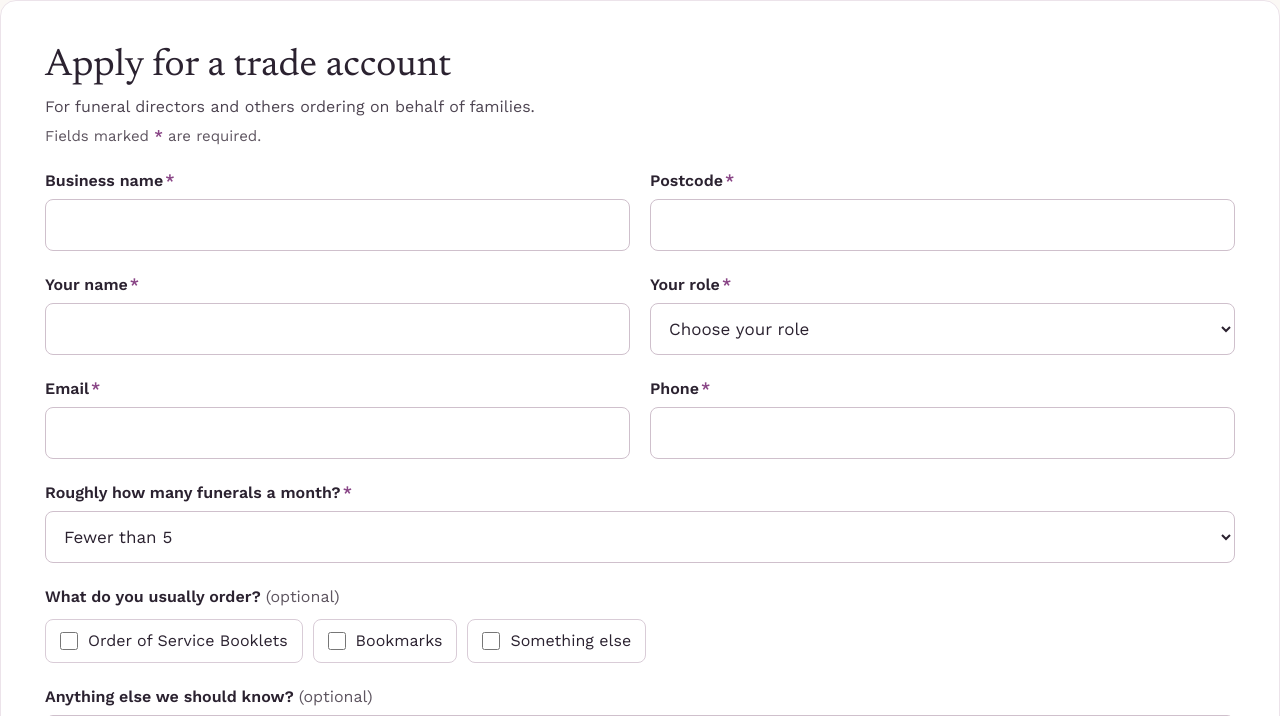
Scenario: TradeApplicationForm › offers the roles as a list, with a box for their own words under Other
Check: the field labelled "Tell us your role" is not shown
Select "Other" in the dropdown labelled "Your role": (942, 329) [650,303,1235,355]
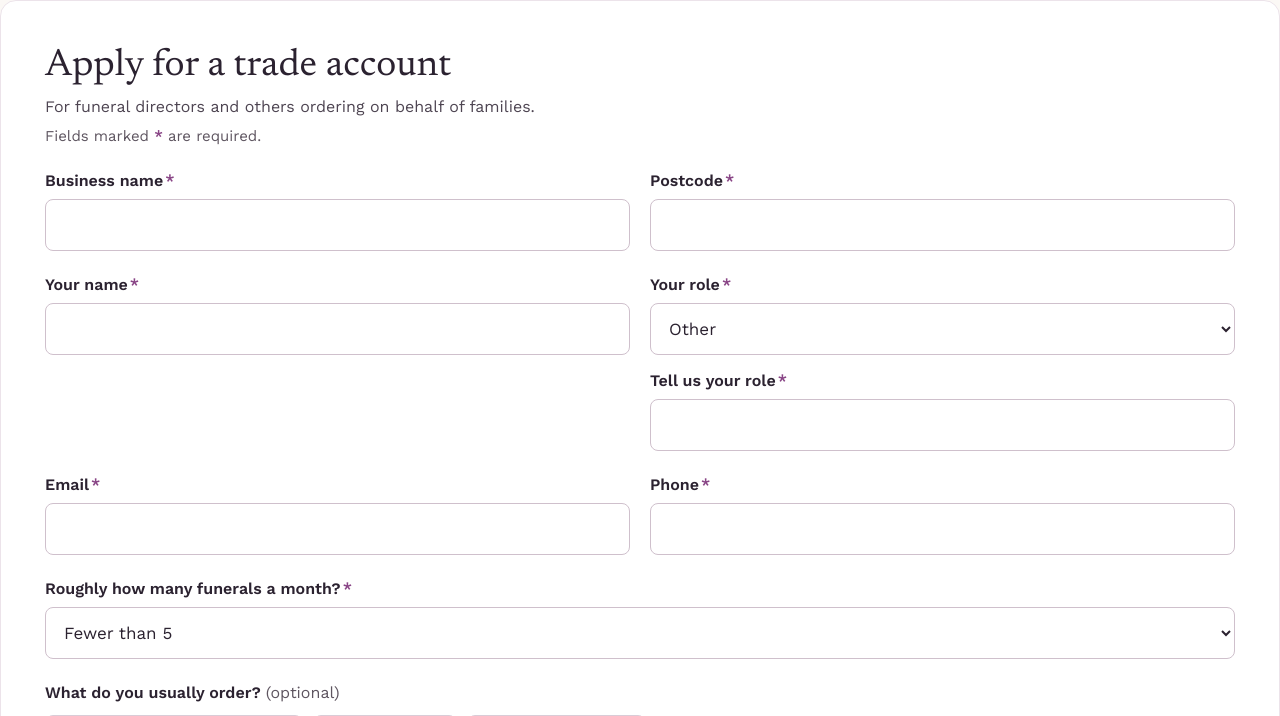
Select "Funeral arranger" in the dropdown labelled "Your role": (942, 329) [650,303,1235,355]
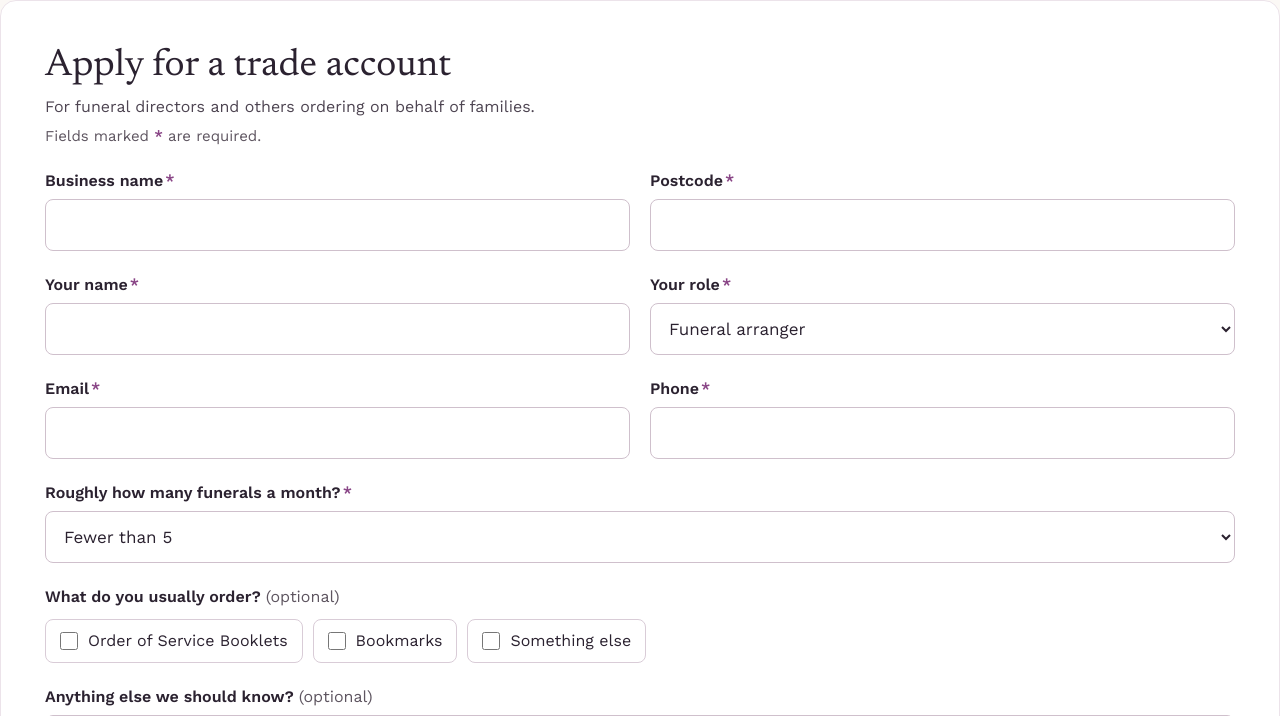
Check: the label "Tell us your role" is gone
